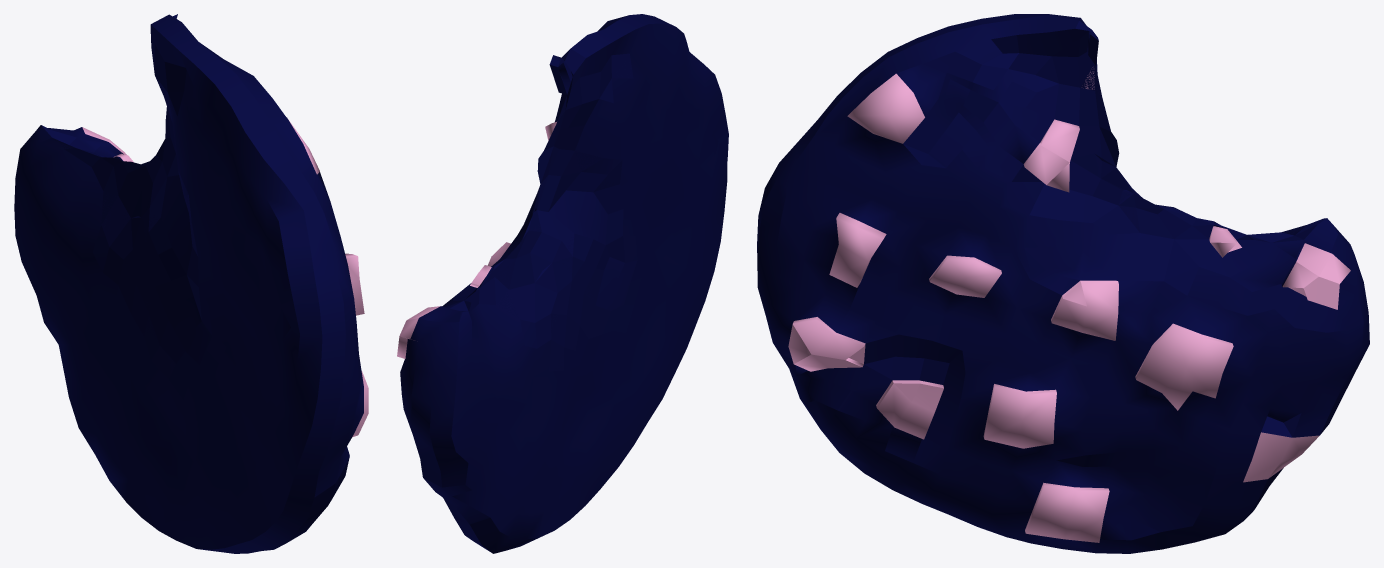
The model's file is Cookie malau 3D (2).glb.
3 views of the same model, side by side, from view 1: azimuth 30°, elevation 25°; view 2: azimuth 150°, elevation 25°; view 3: azimuth 270°, elevation 25° (orthographic). The views are drawn at different scales.
Visible parts, largest first — view 1: cookie1003, cookie1003_1; view 2: cookie1003, cookie1003_1; view 3: cookie1003, cookie1003_1.
Boxes of the visible parts, <box> form: cookie1003: <box>14,14,363,553</box>; cookie1003_1: <box>82,119,368,437</box>; cookie1003: <box>400,14,728,553</box>; cookie1003_1: <box>397,122,556,358</box>; cookie1003: <box>757,14,1369,553</box>; cookie1003_1: <box>788,67,1350,542</box>.
Size of the model in its own units: 0.7437 by 3.42 by 3.59.
